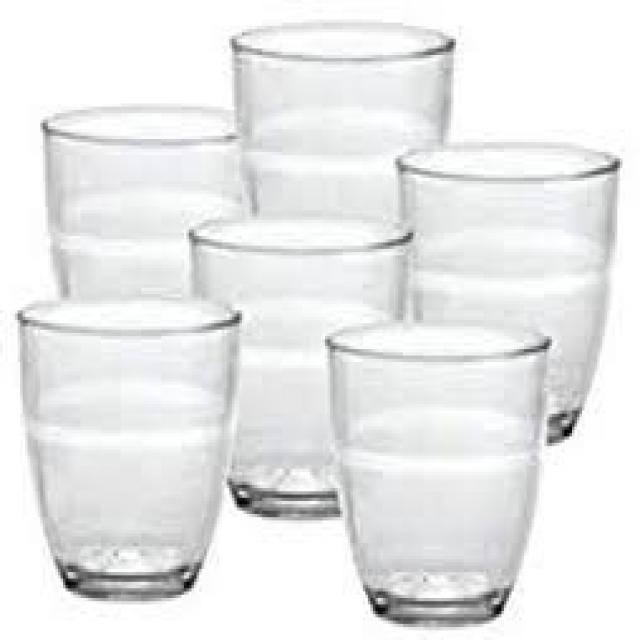glass: (326, 318, 553, 626)
